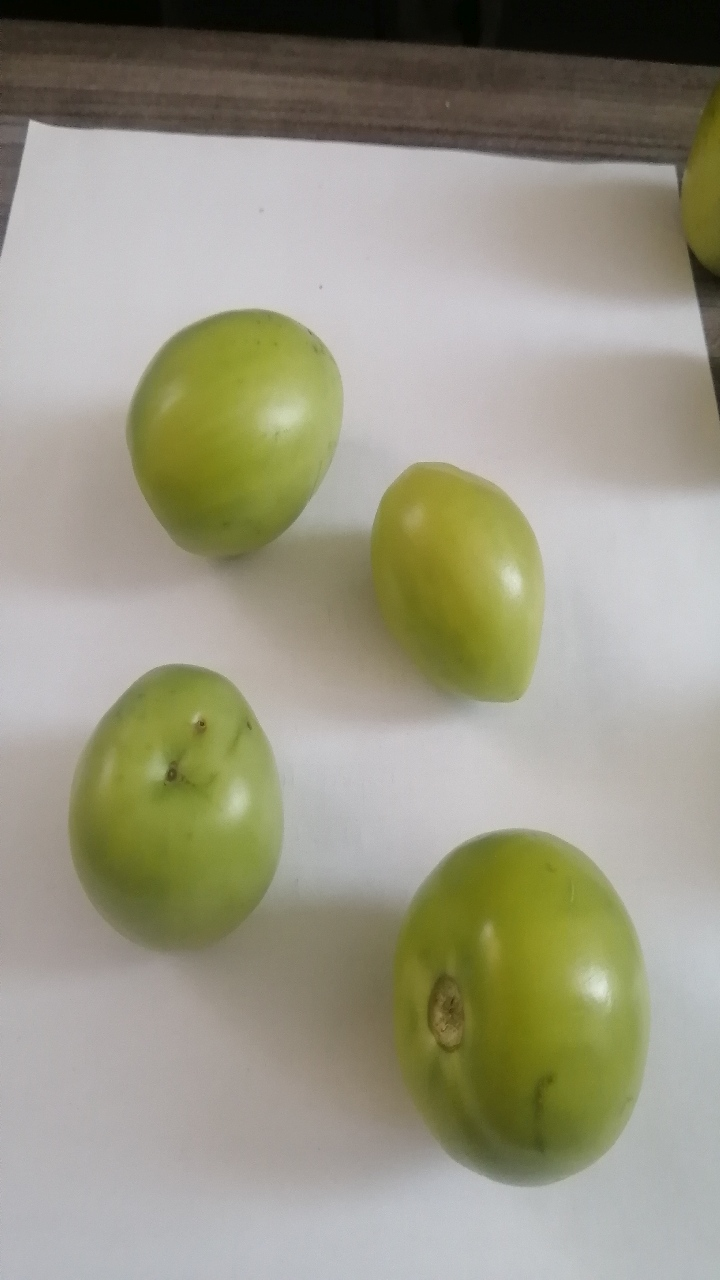tomateVerde: (374, 811, 671, 1211), (89, 271, 361, 592), (44, 642, 298, 963), (357, 437, 557, 732)
